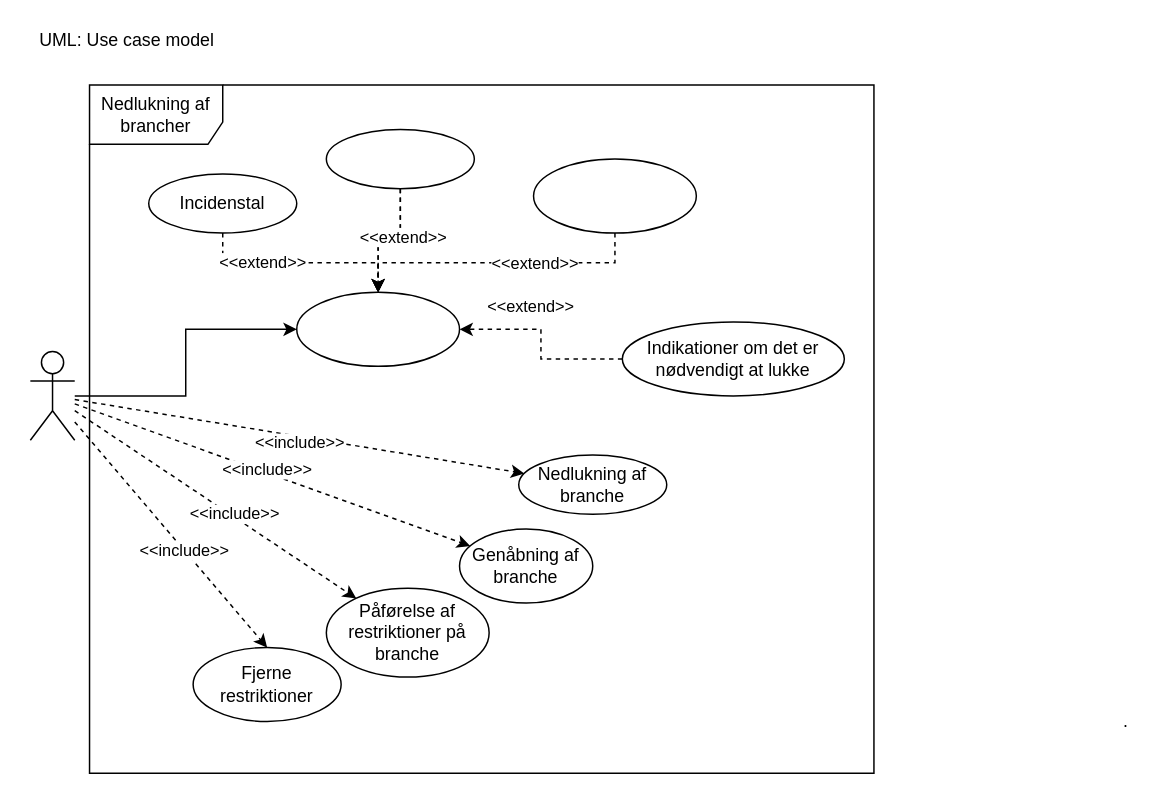
This 1166x799 diagram has some shape labels left out. The shapes that lost their labels are listed below. From the top down, each one's centre as x and y in pixels, then its label:
At point (399, 158): "Smitteudvikling".
At point (614, 195): "Antal smittede pr dag".
At point (377, 328): "Valg af kommune".
At point (52, 395): "Bruger".
